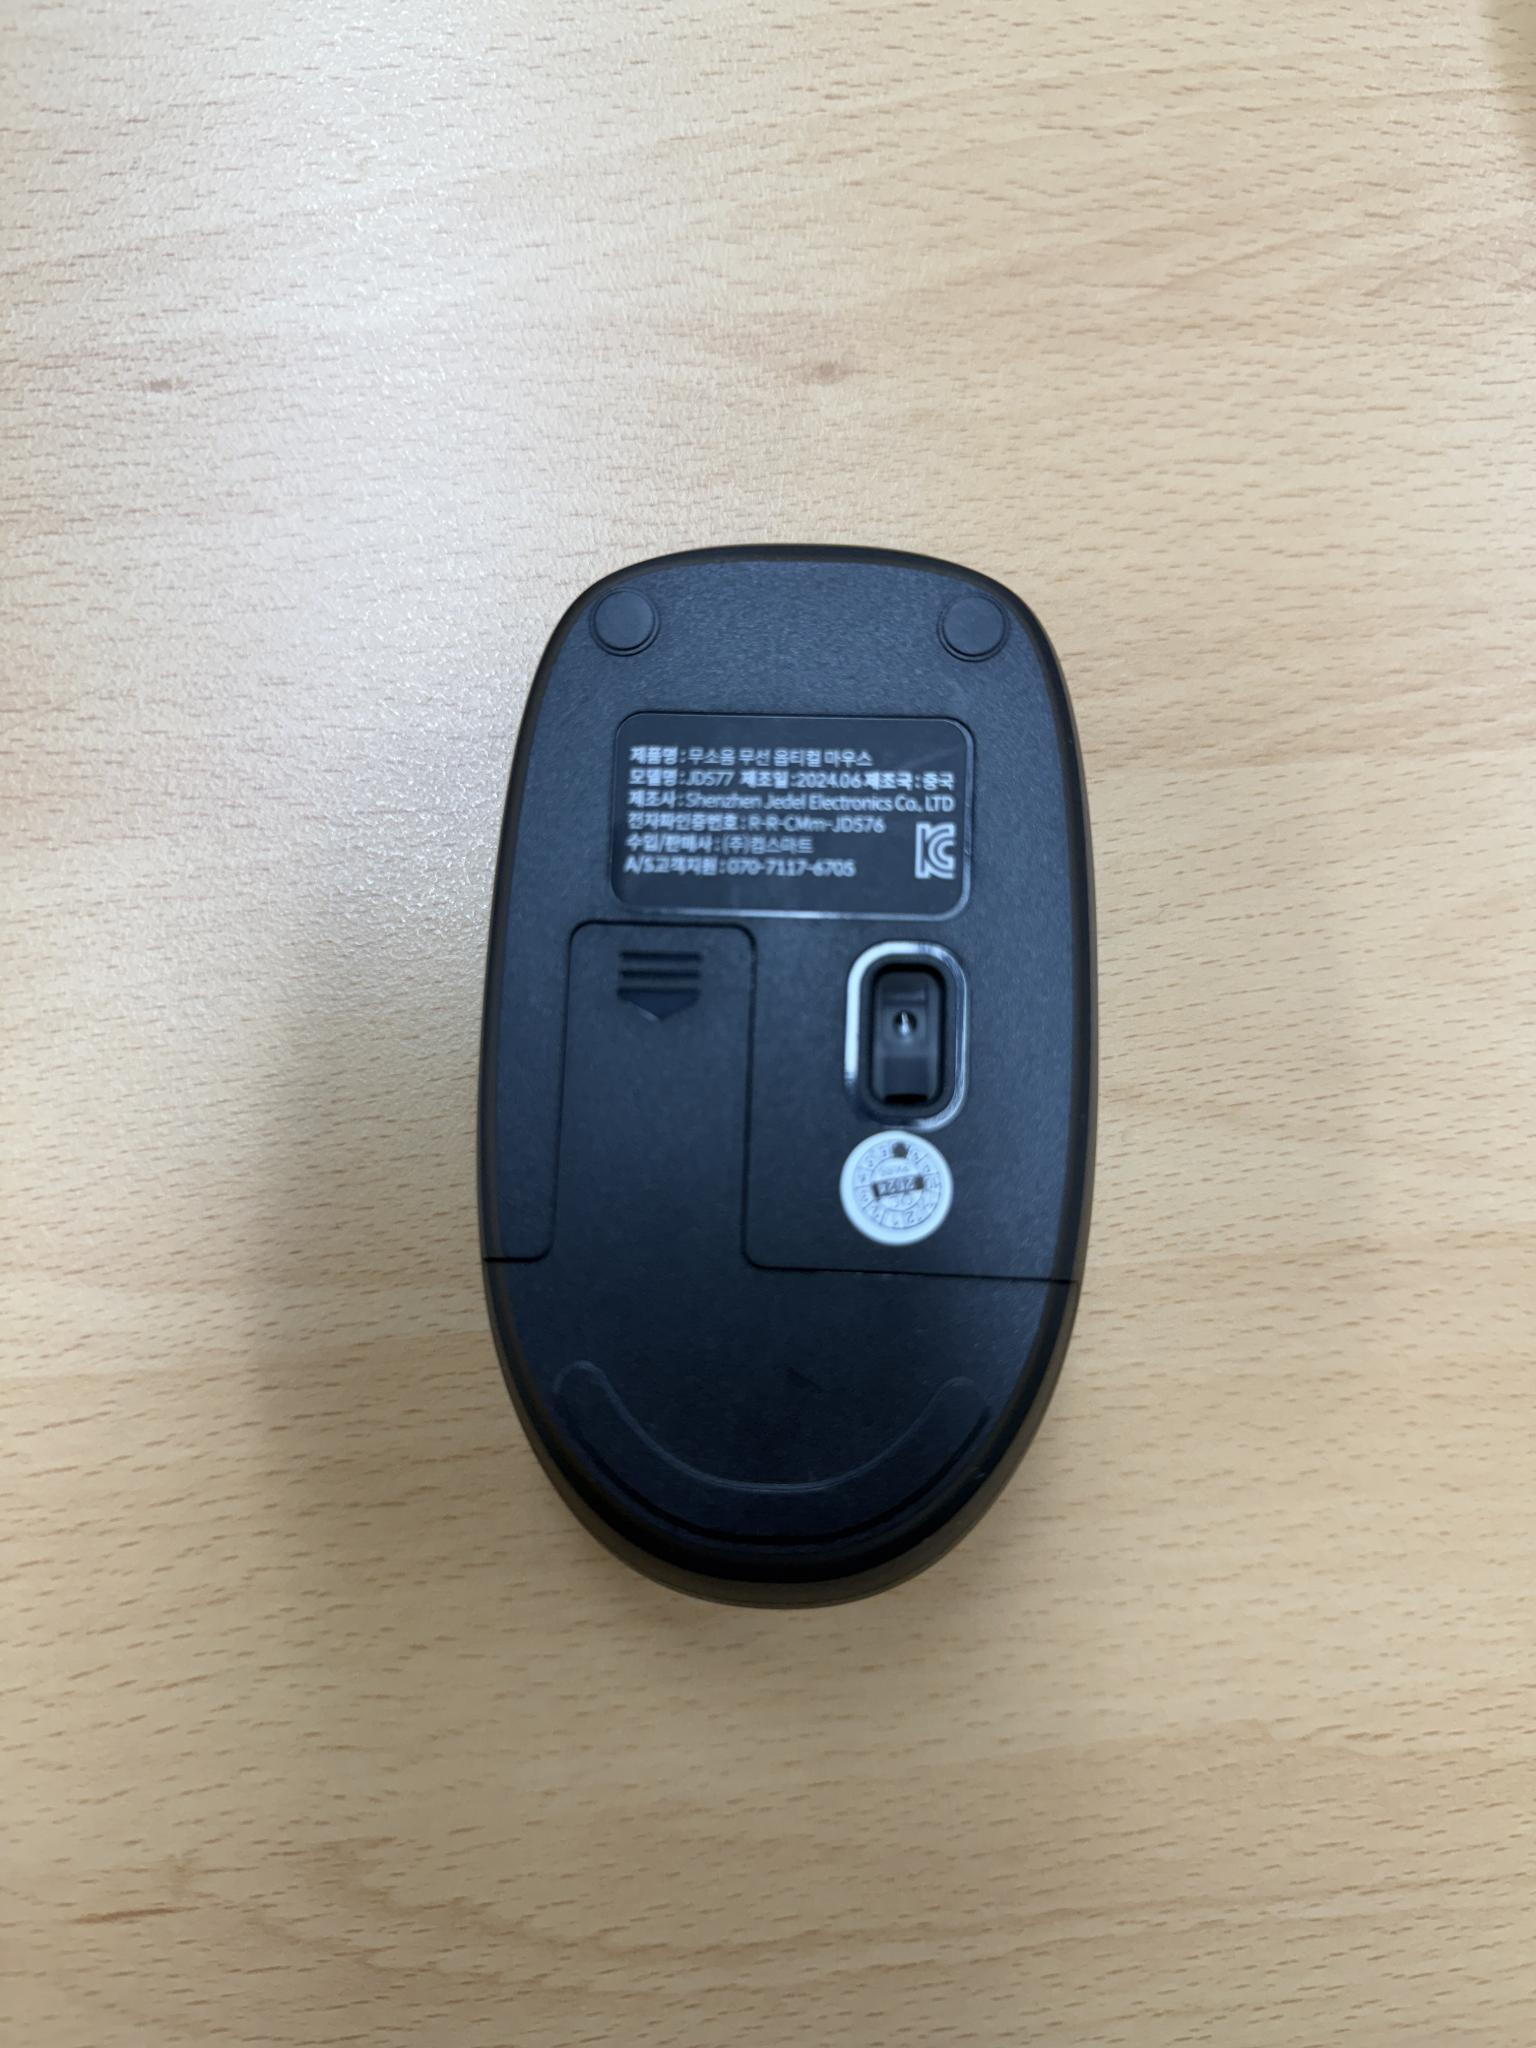back: (472, 538, 1100, 1613)
